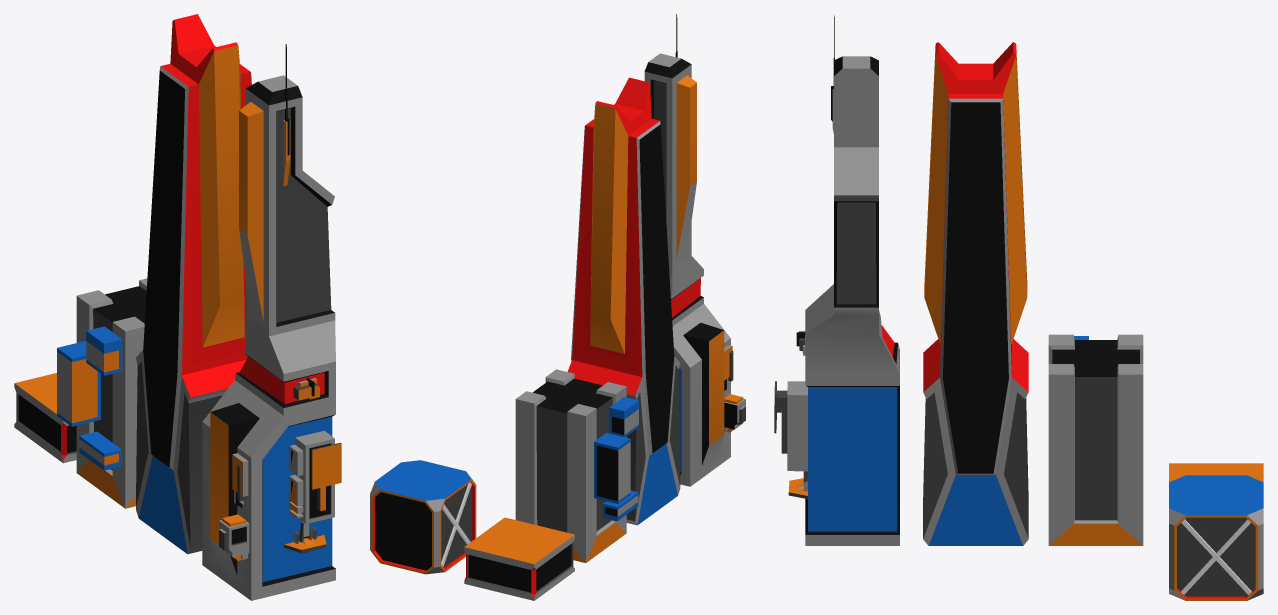
File: CityDecoBuildings.FBX
The picture shows the model from 3 angles, left to right: view 1: azimuth 30°, elevation 25°; view 2: azimuth 150°, elevation 25°; view 3: azimuth 270°, elevation 25°; orthographic projection. The views are drawn at different scales.
Parts seen in each view (by area): view 1: Plane001, Plane002, Plane003, Box005, Plane004, Box009, Box010, Box004, Box011, Box003, Box006, Box008 (+1 smaller); view 2: Plane002, Plane001, Plane003, Plane005, Plane004, Box009, Box010, Box004, Box011, Box013; view 3: Plane002, Plane001, Plane003, Plane005, Box005, Plane004, Box013.
Part boxes in pixels (<box>): Plane001: <box>202,75,335,600</box>; Plane002: <box>136,14,251,554</box>; Plane003: <box>76,278,147,508</box>; Box005: <box>289,430,341,523</box>; Plane004: <box>14,373,76,463</box>; Box009: <box>57,341,100,426</box>; Box010: <box>86,326,122,375</box>; Box004: <box>219,514,249,560</box>; Box011: <box>79,431,121,470</box>; Box003: <box>232,453,248,507</box>; Box006: <box>284,521,326,553</box>; Box008: <box>283,44,290,186</box>; Plane002: <box>567,77,680,525</box>; Plane001: <box>644,53,730,486</box>; Plane003: <box>515,369,626,562</box>; Plane005: <box>370,460,476,574</box>; Plane004: <box>464,517,574,600</box>; Box009: <box>594,433,630,503</box>; Box010: <box>609,397,638,437</box>; Box004: <box>724,394,745,432</box>; Box011: <box>603,490,638,521</box>; Box013: <box>441,482,471,566</box>; Plane002: <box>923,42,1028,545</box>; Plane001: <box>805,56,899,545</box>; Plane003: <box>1048,334,1143,545</box>; Plane005: <box>1169,475,1263,600</box>; Box005: <box>774,381,807,471</box>; Plane004: <box>1169,463,1263,482</box>; Box013: <box>1181,519,1251,595</box>.
Bounding box in the file's own units: 272 × 602 × 517.
